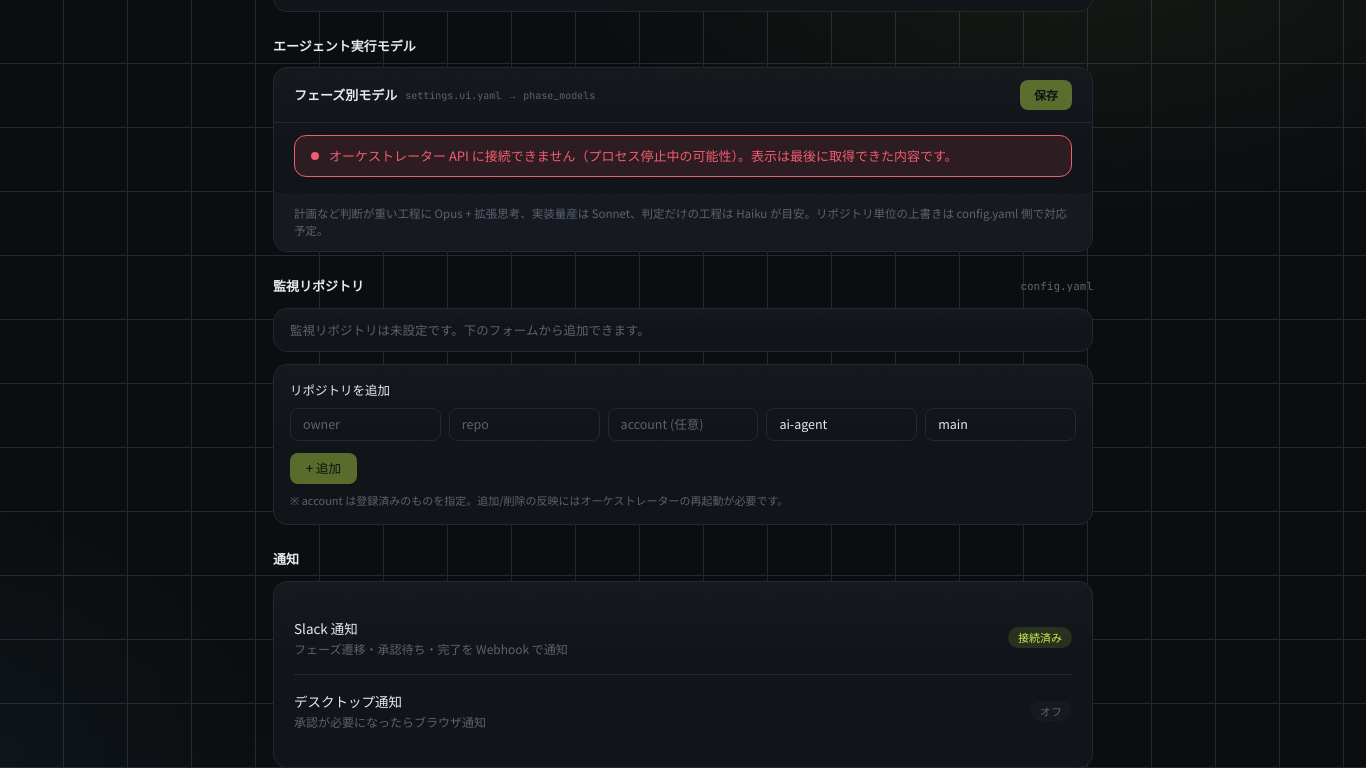
Test: SettingsPage リポジトリ追加/削除 (#138) › 追加失敗時はエラーメッセージを表示
This screenshot has width=1366, height=768.
(page scrolled)
Type "o" into the field with placeholder "owner" at x=365, y=424, box [290,408,441,441]
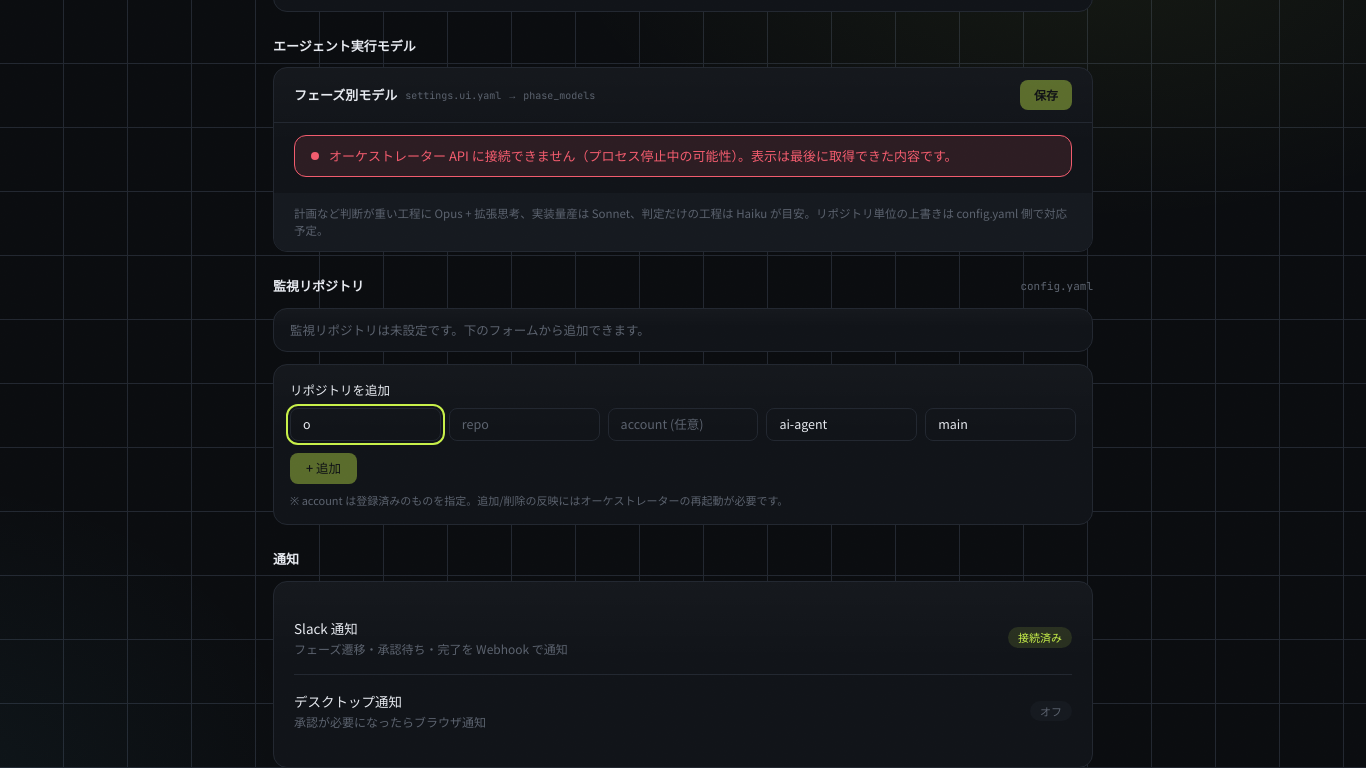
Type "r" into the field with placeholder "repo" at x=524, y=424, box [449,408,600,441]
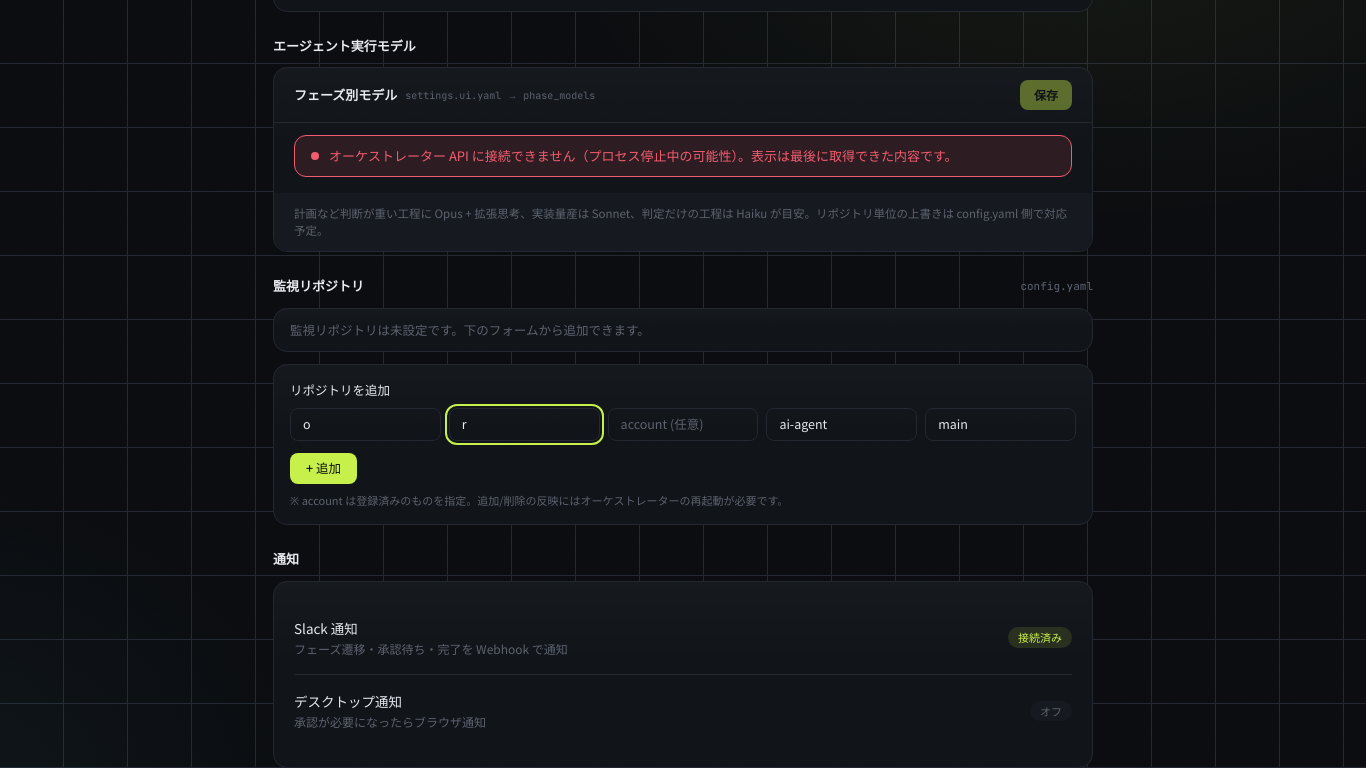
Click the button "+ 追加" at x=324, y=468, box [290,453,357,484]
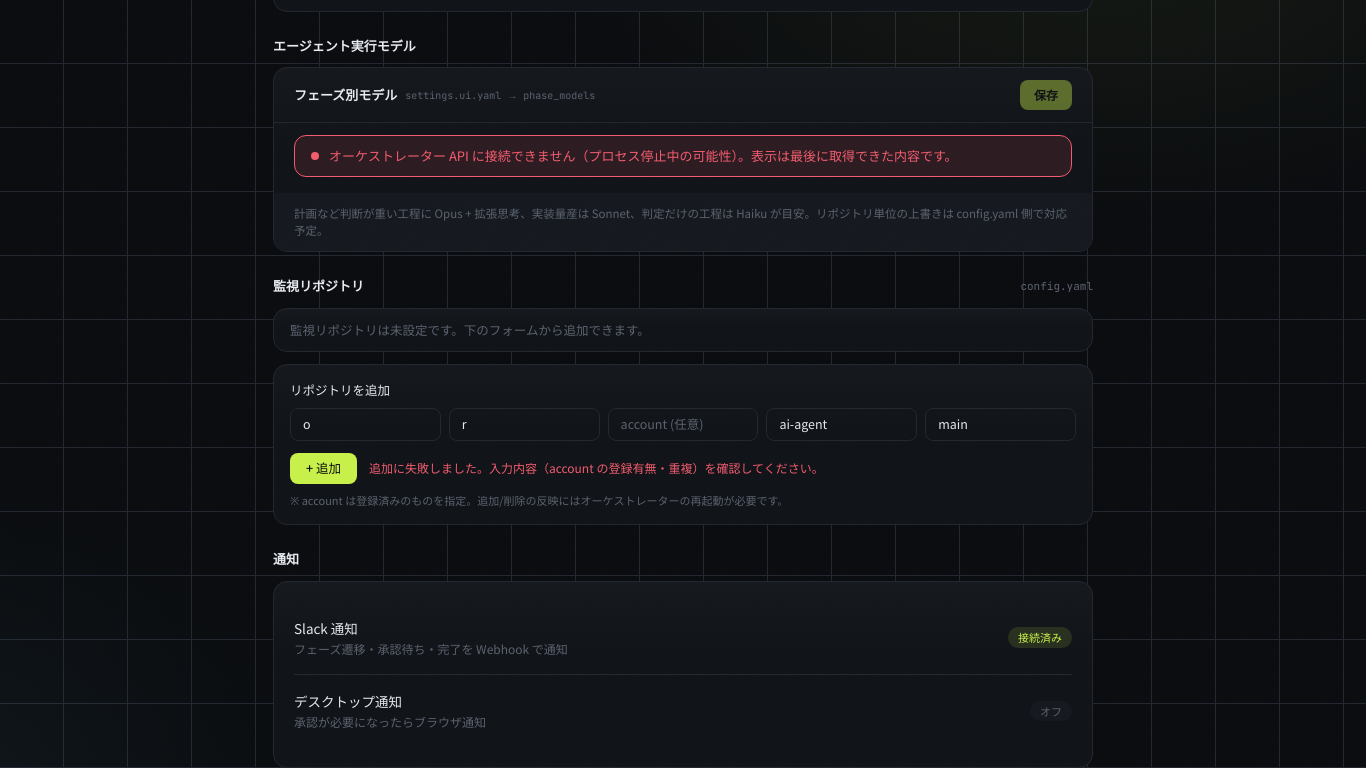
Result: the text "追加に失敗しました。入力内容（account の登録有無・重複）を確認してください。" is shown at [369,459,824,477]
